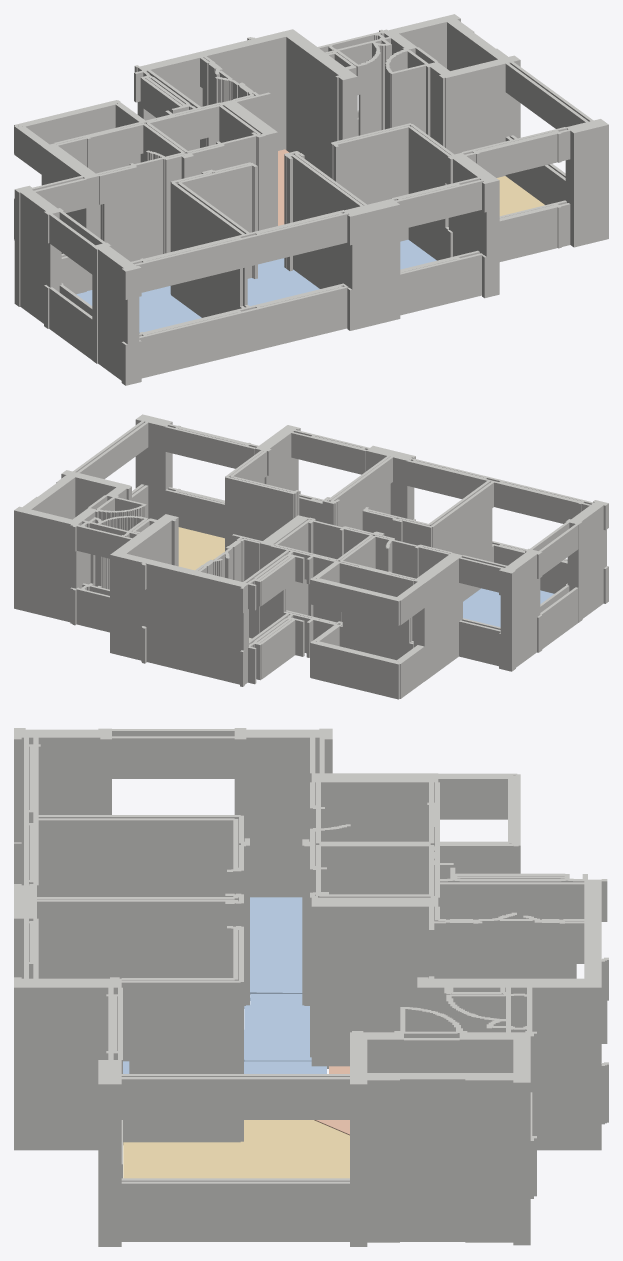
3 views of the same model, one above another, from view 1: azimuth 30°, elevation 25°; view 2: azimuth 150°, elevation 25°; view 3: azimuth 270°, elevation 25° (orthographic). The views are drawn at different scales.
Visible parts, largest first — view 1: walls, room:bedroom:1, room:bedroom:3, room:living:6, room:bedroom:2, room:kitchen:0; view 2: walls, room:living:6, room:bedroom:3; view 3: walls, room:living:6, room:bedroom:3, room:bedroom:1, room:bedroom:2.
Boxes of the visible parts, <box> form: walls: <box>14,14,608,385</box>; room:bedroom:1: <box>247,258,319,306</box>; room:bedroom:3: <box>76,286,201,332</box>; room:living:6: <box>497,176,544,216</box>; room:bedroom:2: <box>400,239,436,269</box>; room:kitchen:0: <box>278,149,288,225</box>; walls: <box>14,414,608,699</box>; room:living:6: <box>178,527,224,570</box>; room:bedroom:3: <box>463,588,554,627</box>; walls: <box>14,728,608,1246</box>; room:living:6: <box>123,1120,349,1178</box>; room:bedroom:3: <box>250,897,302,994</box>; room:bedroom:1: <box>244,994,311,1061</box>; room:bedroom:2: <box>123,1061,326,1073</box>.
Bounding box in the file's own units: 13.15 × 2.8 × 9.29.
